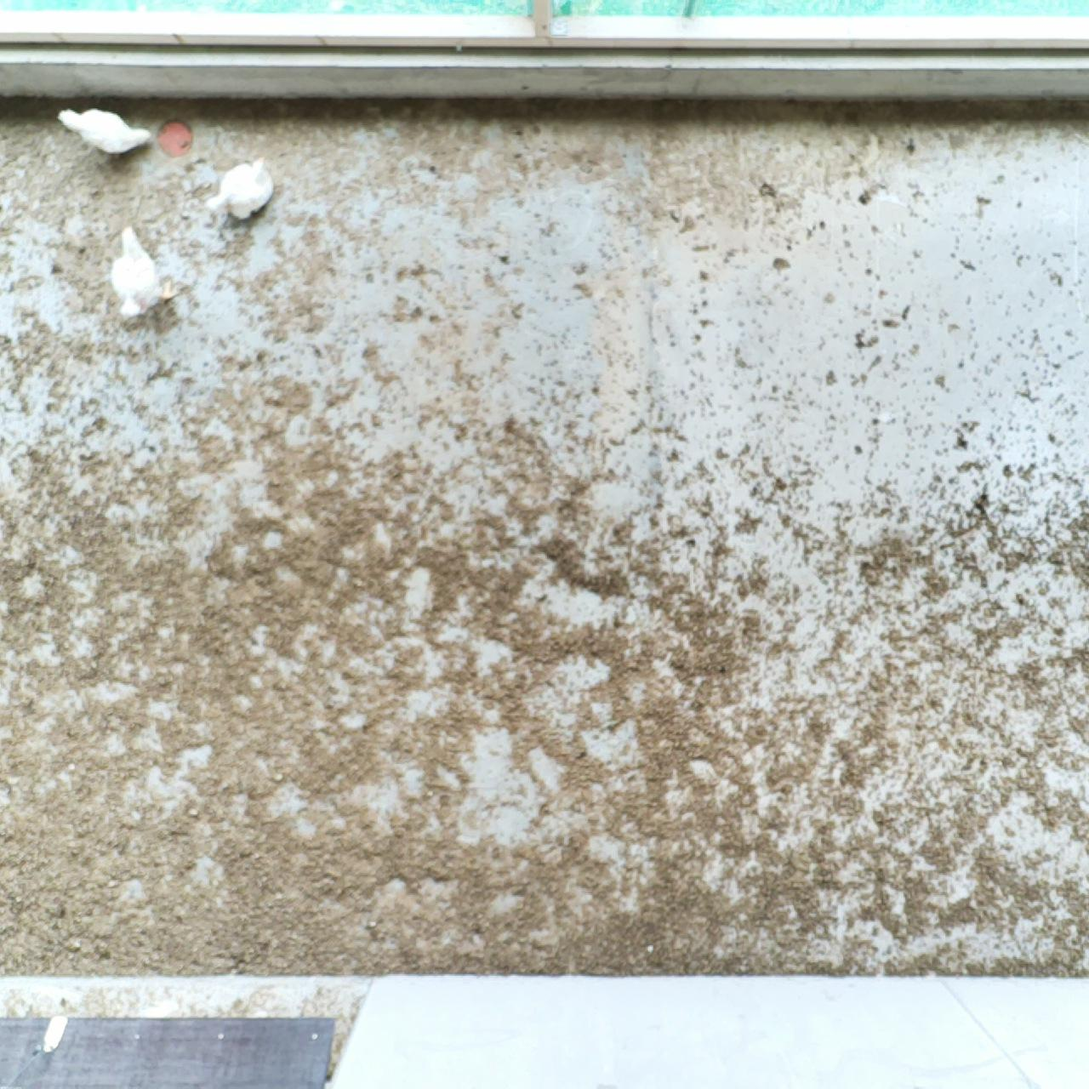chicken: (102, 225, 187, 328), (49, 102, 161, 163), (204, 151, 277, 227)
